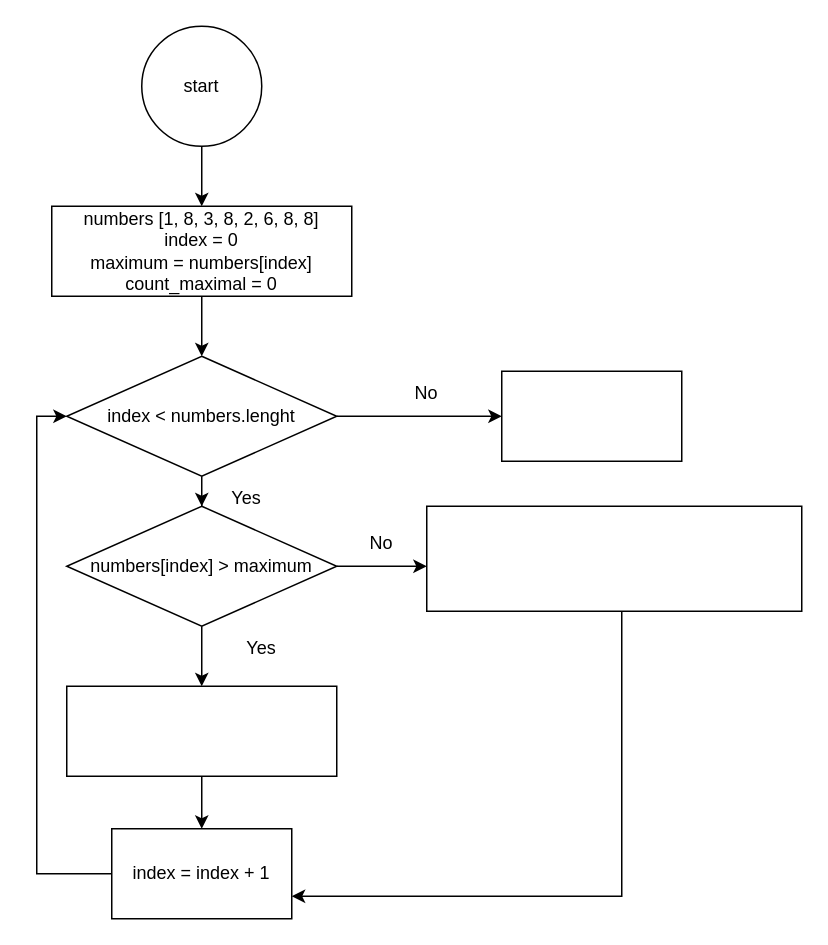
Some shapes in this 828 by 945 pixel diagram are drawn without their labels. Each missing label, with the centre of its shape:
"maximum = numbers[index] count_maximal = 1" belongs at pixel 201 730.
"numbers[index] == maximum count_maximal = count_maximal + 1" belongs at pixel 613 558.
"print(count_maximal)" belongs at pixel 591 415.
